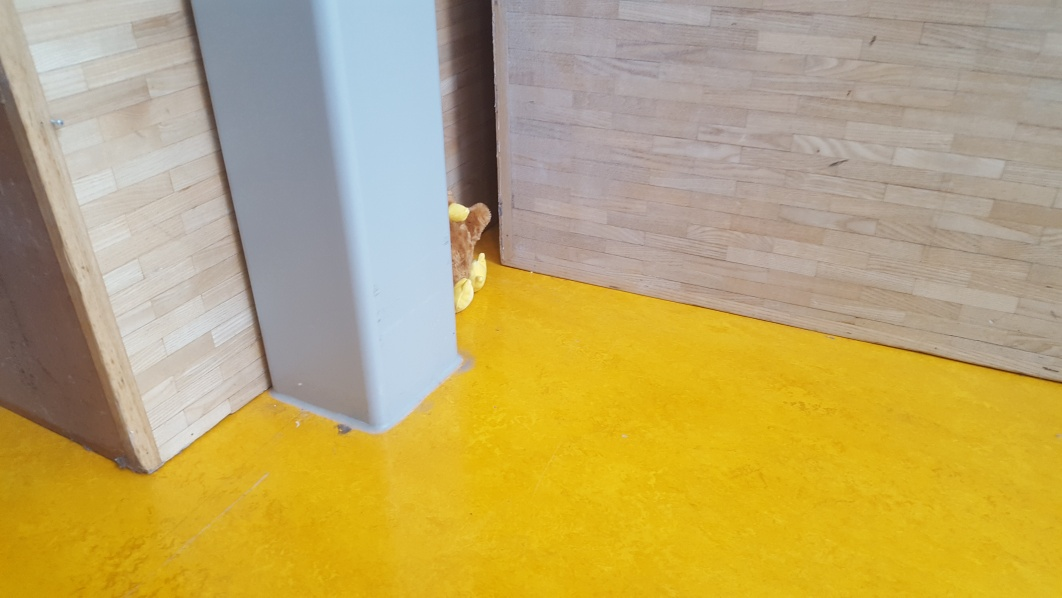chicken: (444, 190, 496, 318)
